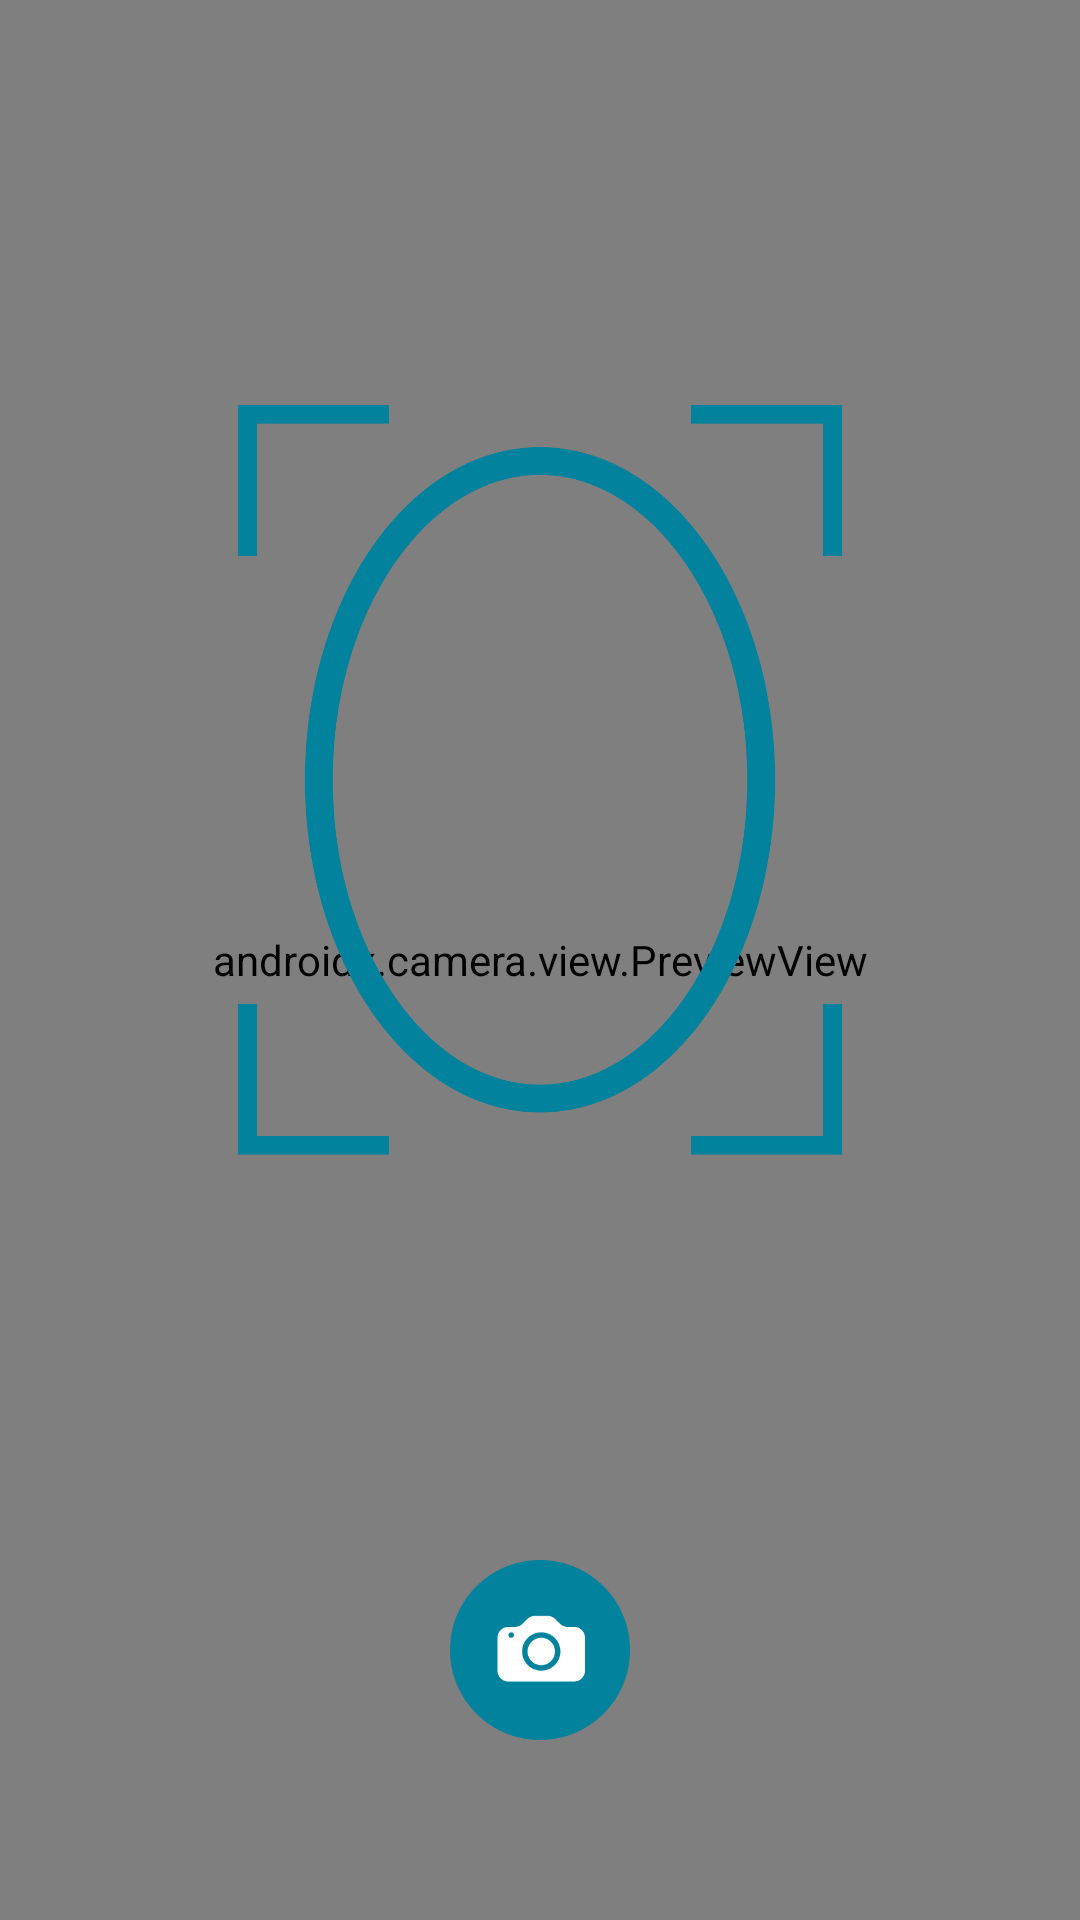

Screen size 1080 × 1920. Icon name, then its box in pixels as (x1, y1, x2, y2):
capture: (450, 1560, 630, 1740)
